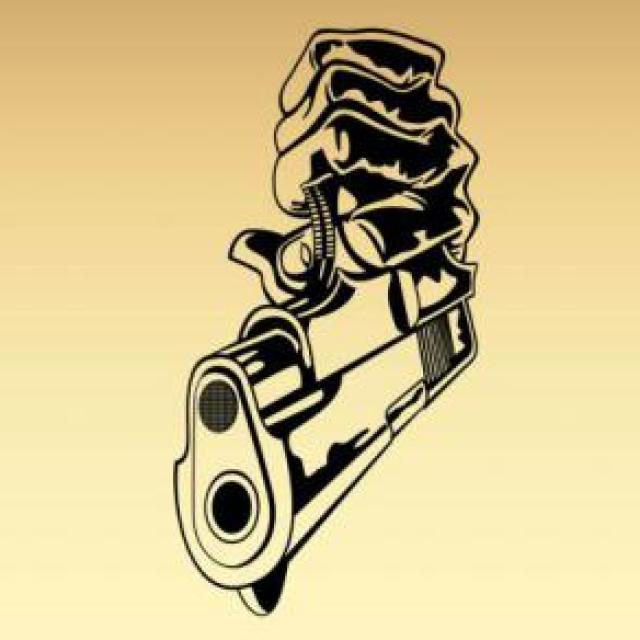pistol: (173, 30, 483, 640)
